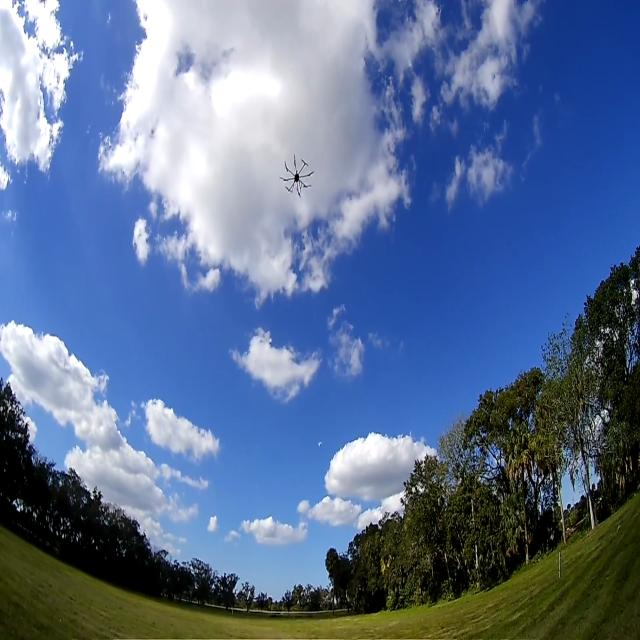drone: (275, 132, 339, 216)
